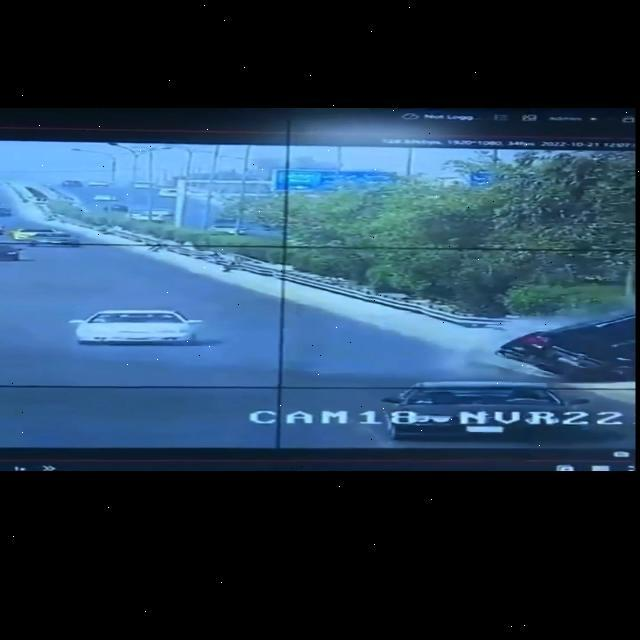accident: (438, 311, 640, 375)
non_accident: (383, 382, 570, 443), (75, 293, 205, 362), (0, 205, 86, 258)
